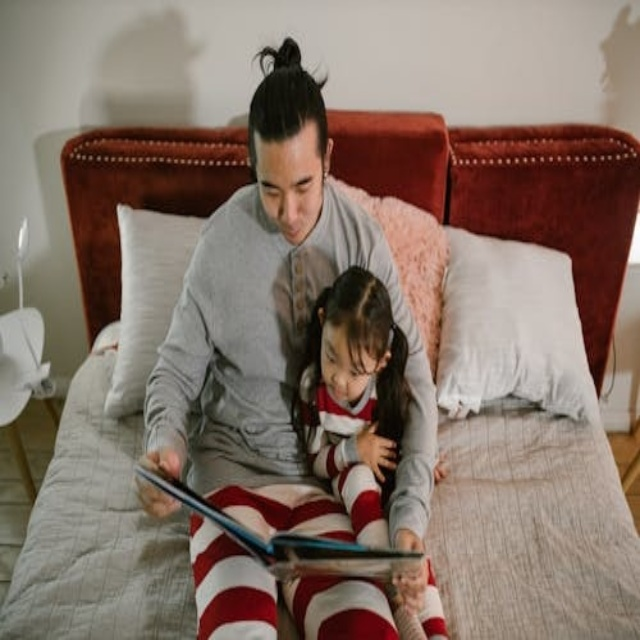Sin_gafas: (259, 165, 319, 209), (320, 331, 370, 377)
Sin_guantes: (134, 448, 186, 519), (344, 420, 398, 483), (390, 543, 430, 626)
Sin_mascara: (271, 209, 307, 246), (324, 371, 356, 404)
